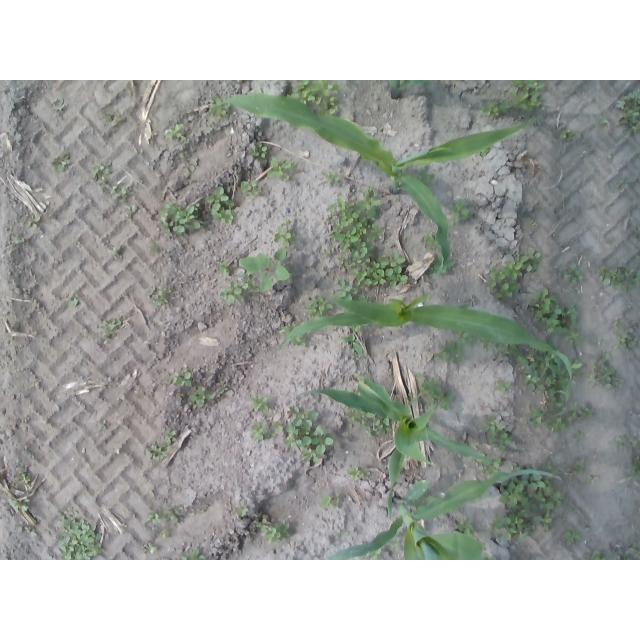Maize: (212, 94, 536, 274), (279, 292, 574, 404), (295, 377, 502, 521), (327, 468, 561, 561), (388, 80, 432, 100)
Weeds: (322, 184, 411, 288), (529, 356, 596, 430), (492, 483, 566, 542), (526, 285, 583, 345), (486, 247, 544, 302), (91, 161, 142, 223), (286, 405, 335, 467), (481, 81, 546, 120), (240, 248, 293, 294), (58, 512, 107, 561), (155, 202, 207, 237), (287, 81, 342, 114), (500, 345, 540, 390), (417, 373, 456, 412), (588, 350, 625, 389), (205, 185, 237, 225), (614, 88, 640, 136), (597, 264, 639, 293), (482, 416, 513, 452), (254, 515, 290, 542), (188, 386, 231, 408), (434, 339, 464, 364), (268, 157, 296, 183), (219, 281, 249, 305), (272, 217, 296, 247), (237, 179, 266, 202), (342, 332, 364, 361), (208, 94, 232, 120), (449, 199, 472, 226), (307, 295, 333, 318), (146, 510, 180, 527), (98, 320, 125, 340), (365, 419, 392, 438), (149, 286, 171, 309), (51, 153, 74, 175), (165, 370, 193, 388), (606, 176, 630, 197), (613, 330, 638, 350), (337, 280, 360, 300), (564, 262, 585, 283), (248, 422, 268, 443), (455, 517, 477, 536), (321, 168, 343, 187), (165, 123, 187, 142), (320, 492, 341, 510), (347, 408, 374, 422), (147, 444, 169, 461), (146, 236, 162, 259), (181, 546, 207, 560), (347, 465, 373, 479), (415, 167, 435, 185), (479, 461, 504, 475), (423, 235, 441, 252), (216, 259, 232, 278), (494, 378, 514, 393), (106, 113, 127, 127), (27, 214, 44, 231), (111, 243, 126, 262), (252, 141, 269, 157), (163, 427, 178, 445), (251, 396, 269, 411), (626, 541, 640, 560), (631, 454, 640, 482), (459, 334, 478, 347), (67, 298, 86, 311), (573, 456, 588, 472), (14, 469, 30, 484), (564, 529, 582, 542), (234, 505, 252, 518), (588, 550, 611, 560), (10, 500, 27, 513), (616, 437, 629, 452), (546, 460, 562, 472), (145, 542, 159, 555), (11, 234, 25, 247), (270, 420, 284, 432), (561, 130, 575, 142), (25, 527, 39, 538), (294, 337, 309, 347), (598, 116, 610, 128), (588, 475, 601, 486), (369, 552, 384, 561), (480, 339, 490, 352), (392, 539, 401, 553), (632, 224, 640, 237), (631, 438, 640, 449), (162, 529, 171, 540), (280, 326, 291, 335), (593, 338, 603, 346), (481, 151, 491, 158), (612, 320, 620, 328), (574, 430, 582, 438), (531, 221, 538, 228), (606, 238, 614, 243)
